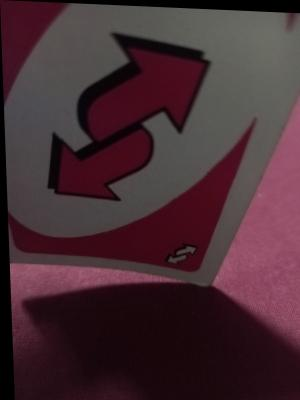reverse: (36, 21, 220, 214), (159, 235, 203, 275)
